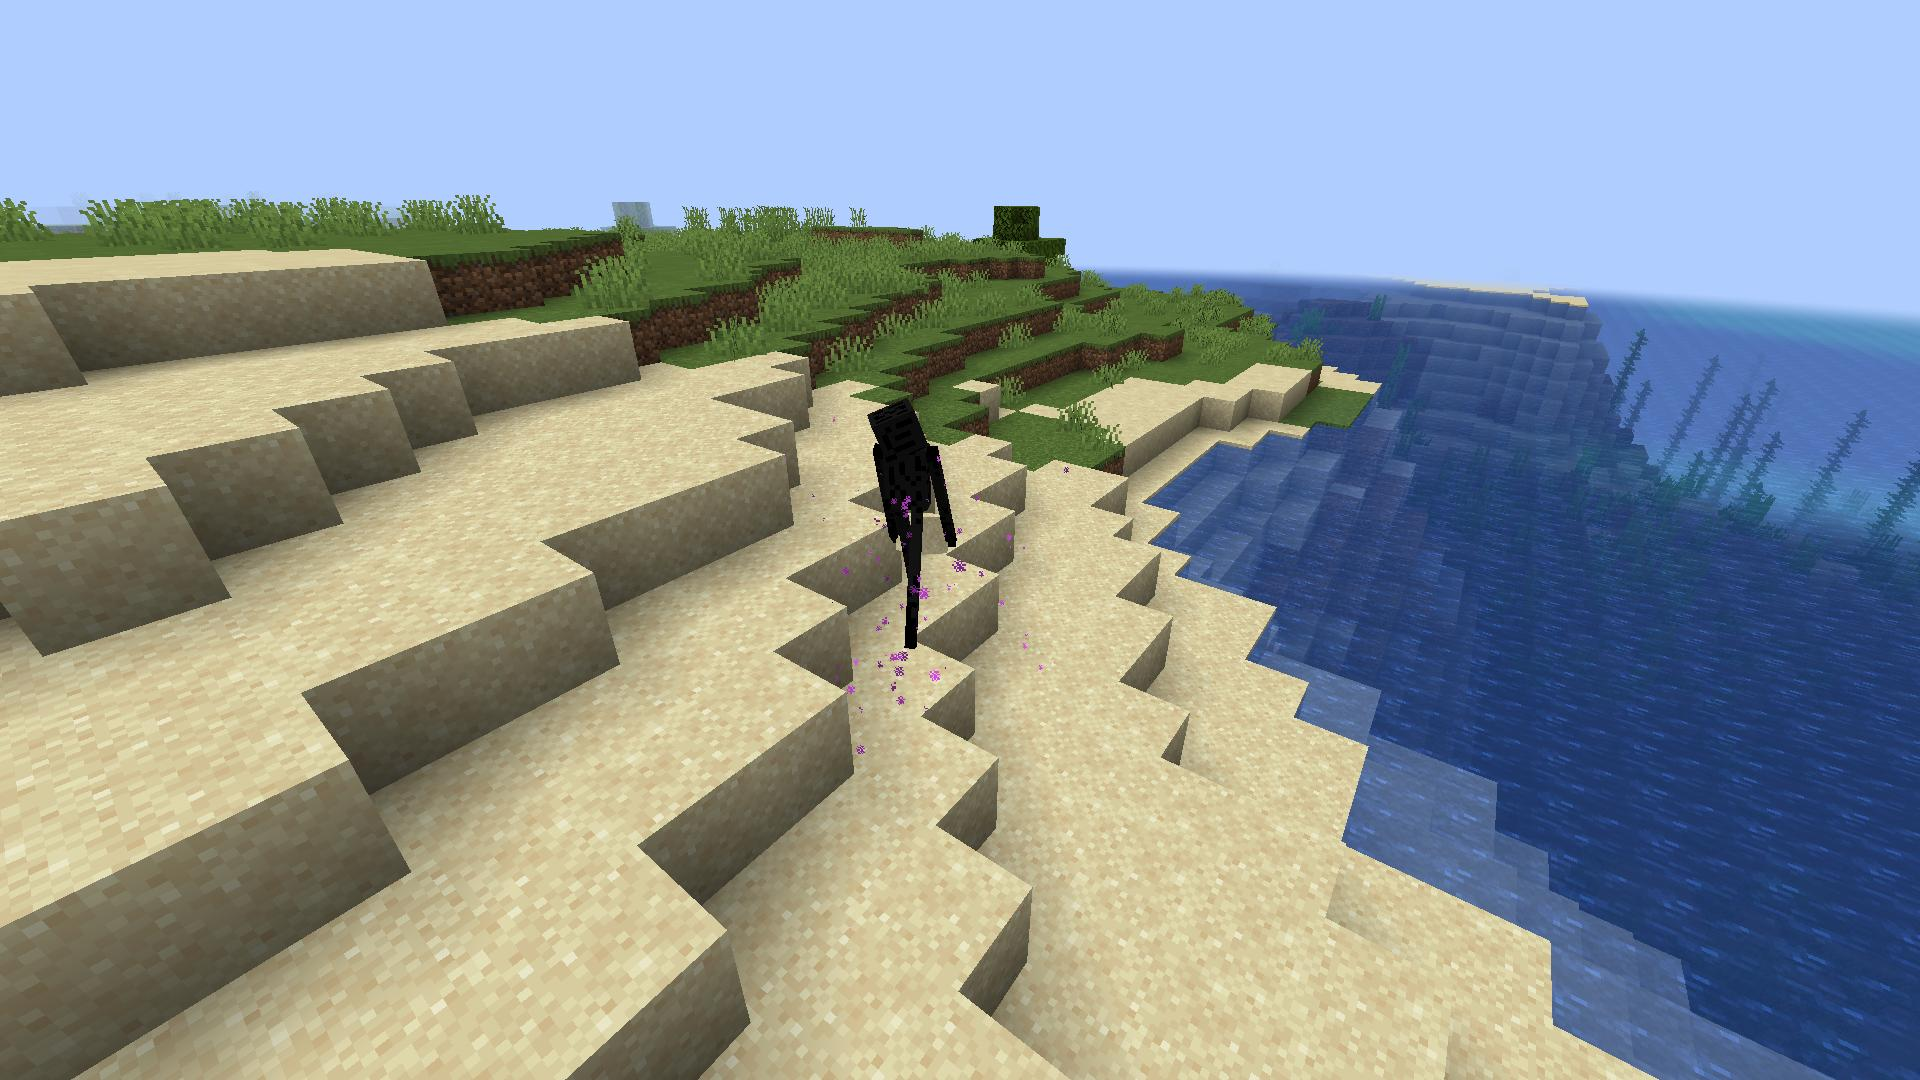enderman: (860, 390, 965, 654)
